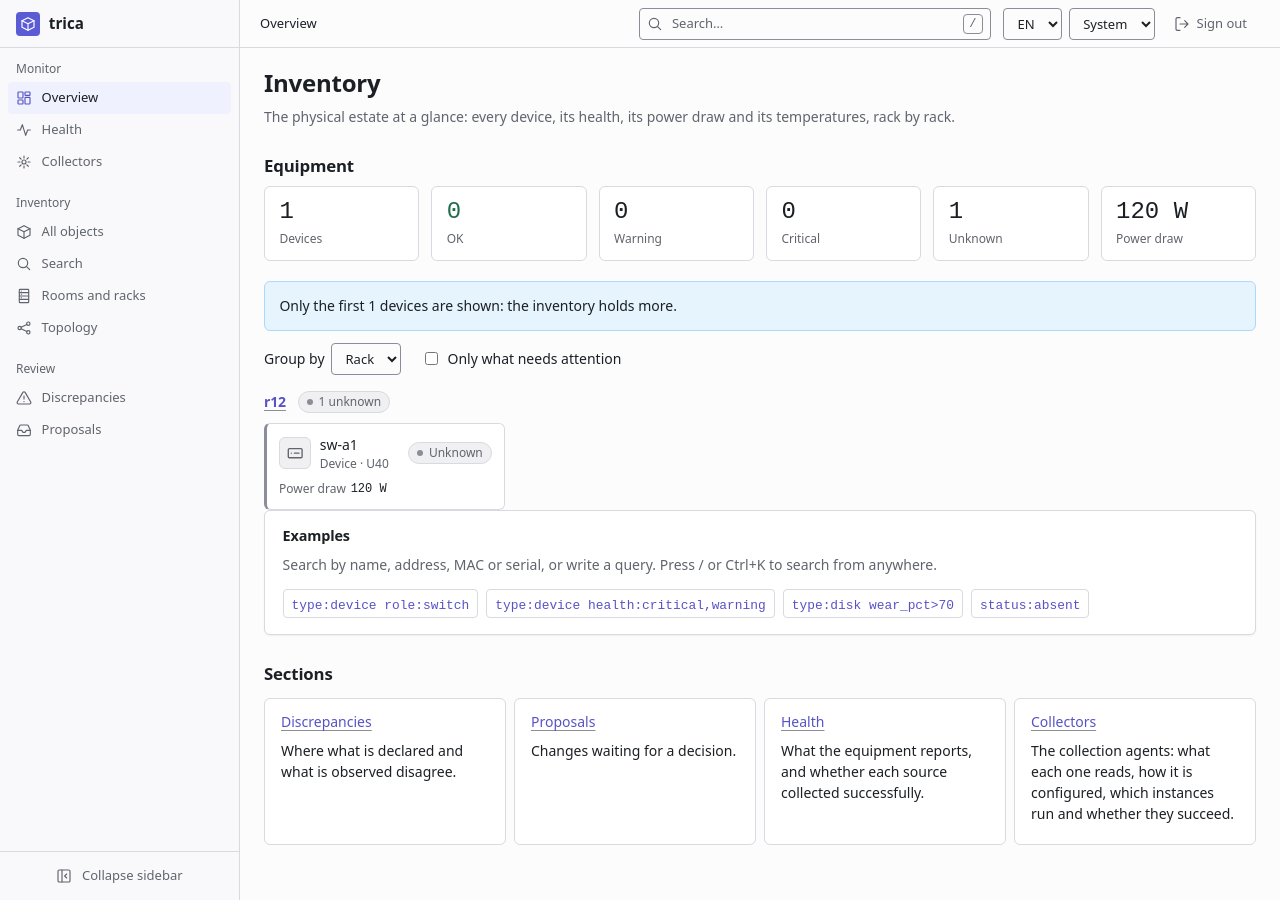
Test: search results › the search bar submits to a deep link and keeps the query visible
This screenshot has width=1280, height=900.
Type "type:device sw-a1" into the search field named "Search the inventory" at (815, 24), box [639,8,991,40]
Then press Enter
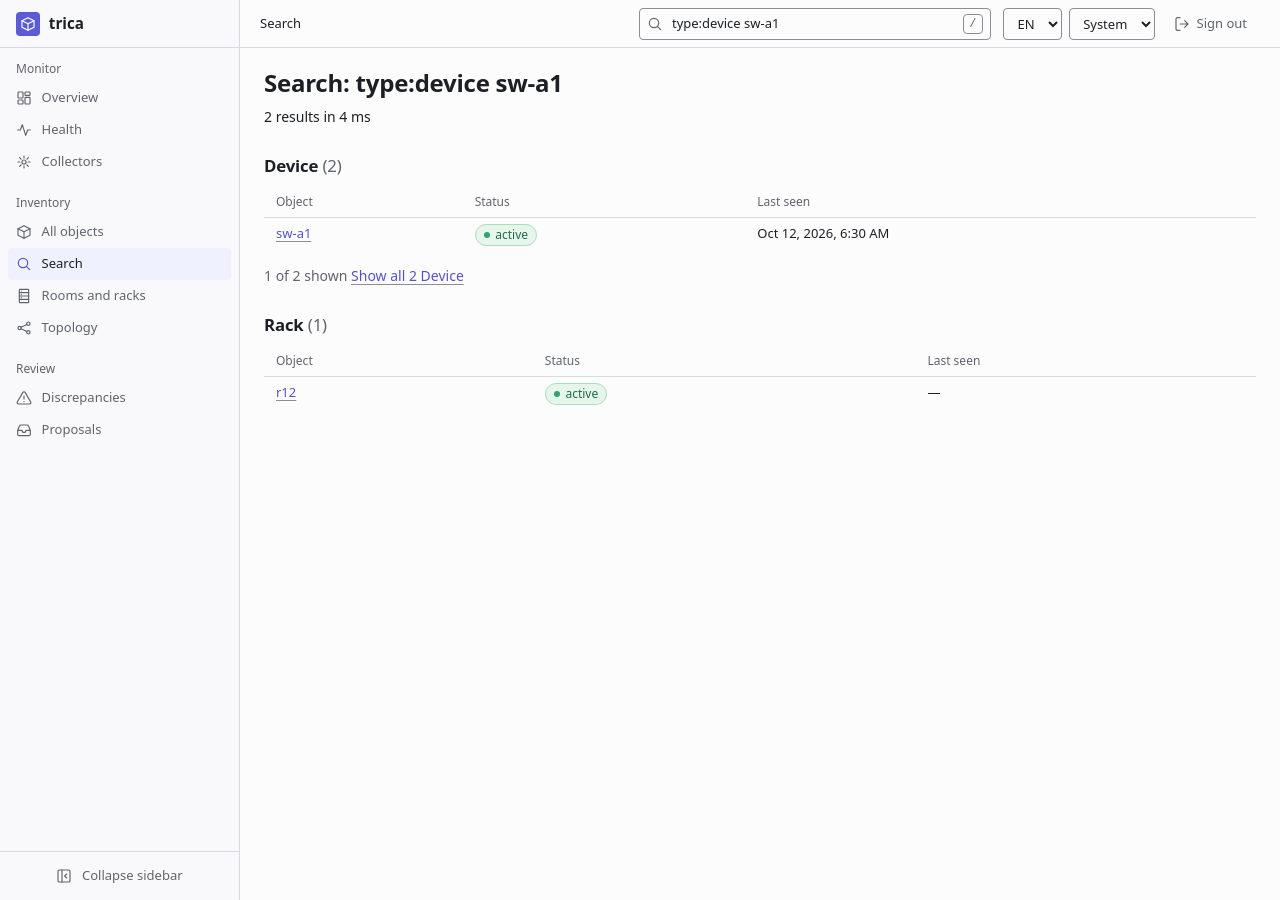
expect the heading "Search: type:device sw-a1" is shown: met, box [264,66,563,99]
expect the search field holds "type:device sw-a1": met, box [639,8,991,40]
